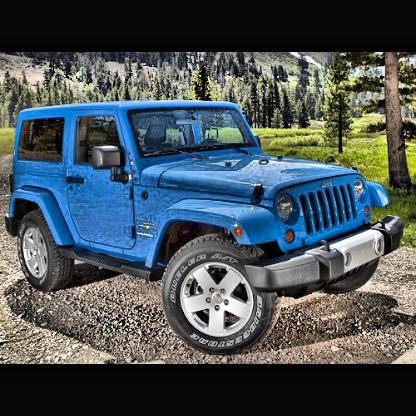Jeep Wrangler SUV 2012: (5, 99, 412, 356)
